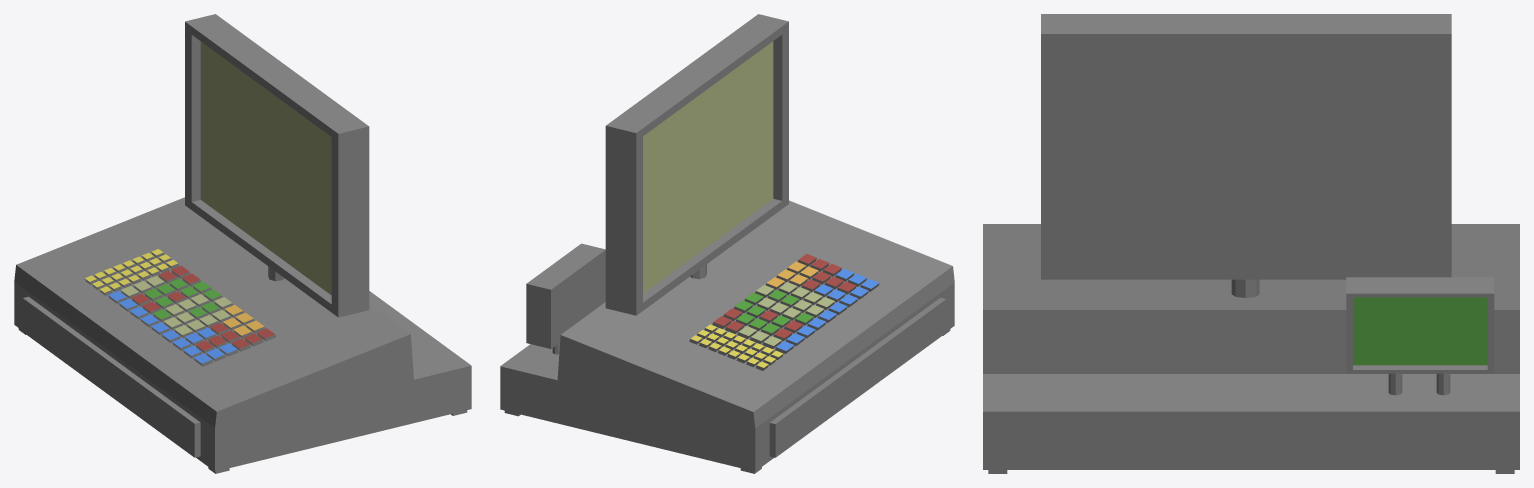
The model's file is CashRegister.fbx.
3 views of the same model, side by side, from view 1: azimuth 30°, elevation 25°; view 2: azimuth 150°, elevation 25°; view 3: azimuth 270°, elevation 25° (orthographic). The views are drawn at different scales.
Parts seen in each view (by area): view 1: Kasse; view 2: Kasse; view 3: Kasse.
Part boxes in pixels (bbox=[...]): Kasse: bbox=[14, 14, 471, 473]; Kasse: bbox=[500, 14, 954, 473]; Kasse: bbox=[983, 14, 1519, 473].
Size of the model in its own units: 259 by 274 by 343.
